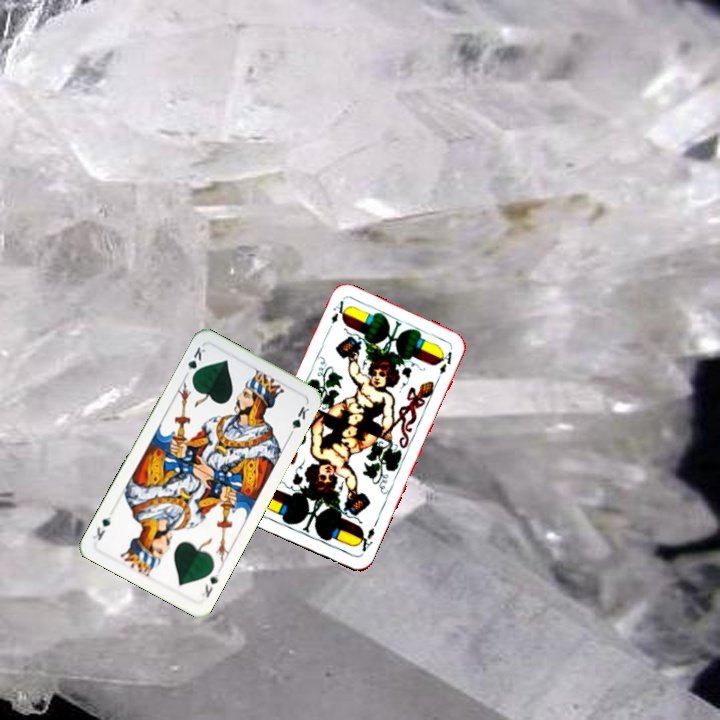EA: (324, 296, 349, 335), (353, 524, 377, 554)
GK: (181, 343, 208, 382), (197, 570, 221, 600)
